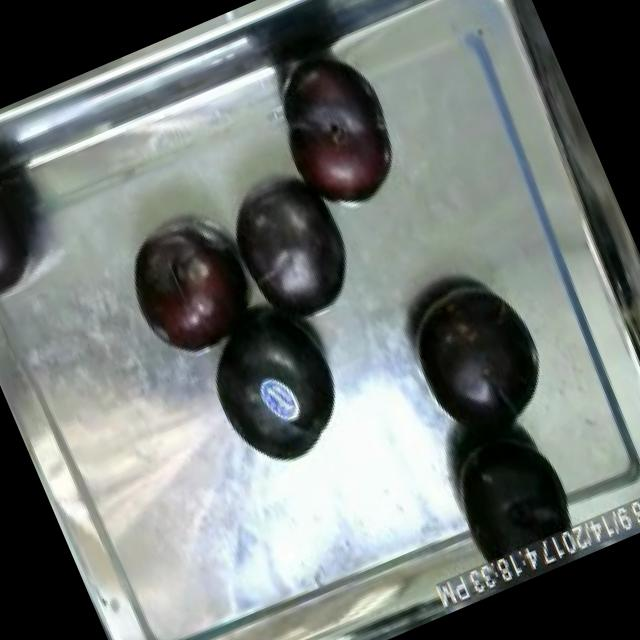Fruit: (385, 256, 574, 468), (182, 285, 371, 489), (252, 34, 423, 230), (212, 162, 379, 342), (109, 200, 275, 378), (0, 120, 73, 315)
